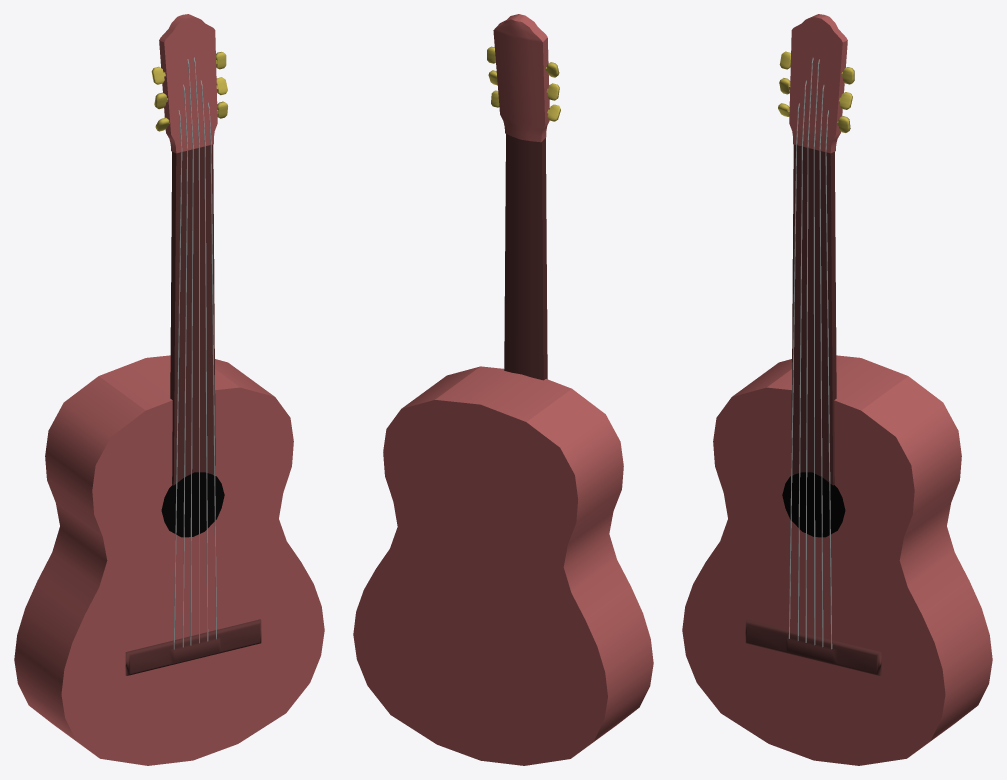
The model's file is Guitar.fbx.
3 views of the same model, side by side, from view 1: azimuth 30°, elevation 25°; view 2: azimuth 150°, elevation 25°; view 3: azimuth 330°, elevation 25° (orthographic). The views are drawn at different scales.
Visible parts, largest first — view 1: Guitar; view 2: Guitar; view 3: Guitar.
Part boxes in pixels (left/top/right/bottom): Guitar: left=14, top=14, right=324, bottom=765; Guitar: left=353, top=14, right=653, bottom=765; Guitar: left=682, top=14, right=992, bottom=765.
Size of the model in its own units: 37.46 by 101 by 12.53.
